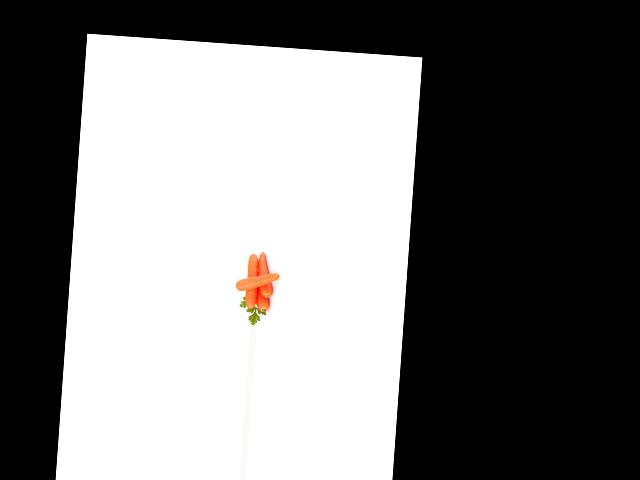carrot: (252, 259, 274, 312)
